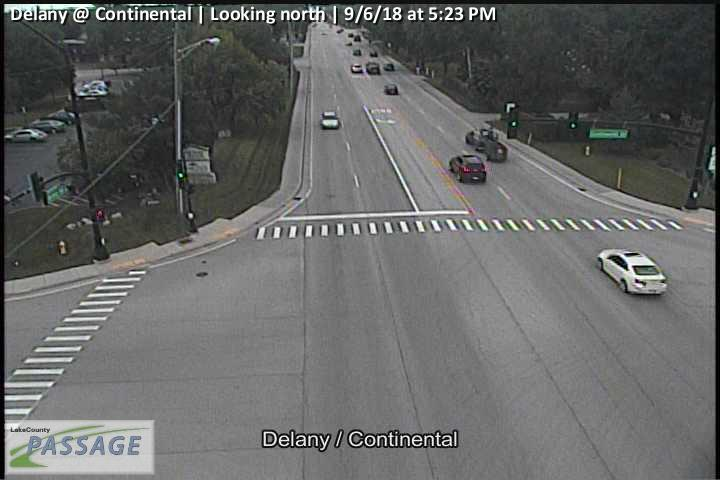SUV: (449, 153, 487, 182)
Sedan: (596, 247, 667, 294), (4, 127, 48, 143), (26, 119, 67, 134), (320, 110, 339, 128)
